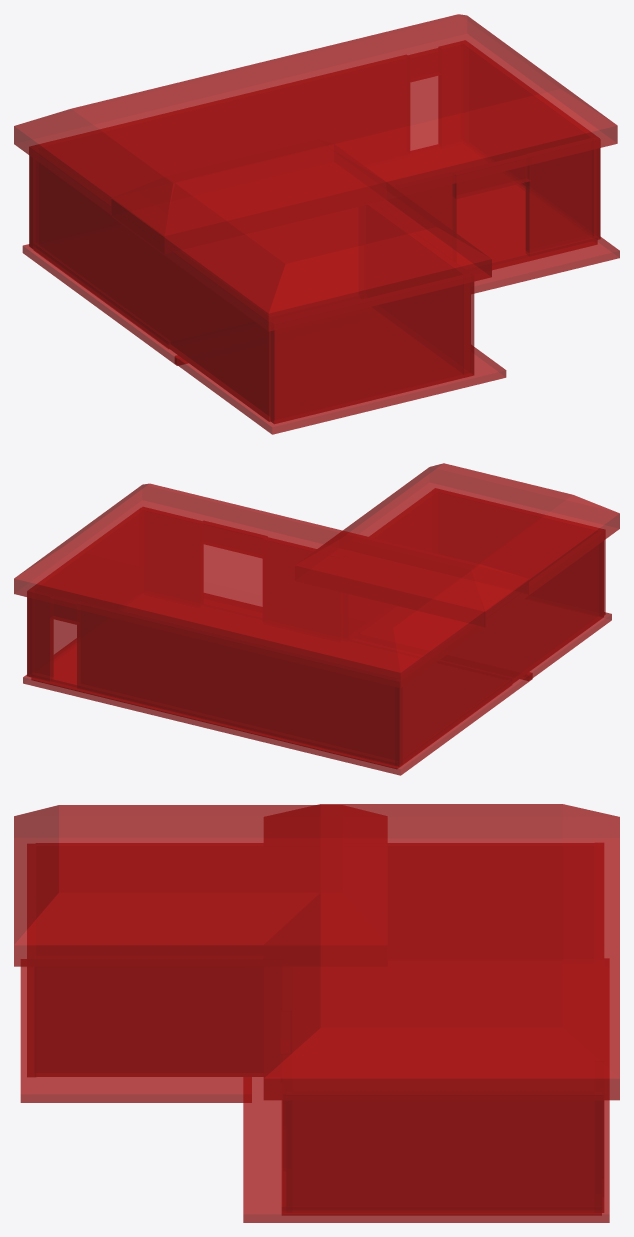
The model's file is SM_Bld_Shop_03_COLLISION.fbx.
3 views of the same model, one above another, from view 1: azimuth 30°, elevation 25°; view 2: azimuth 150°, elevation 25°; view 3: azimuth 270°, elevation 25° (orthographic). The views are drawn at different scales.
Visible parts, largest first — view 1: SM_Bld_Shop_03_COLLISION; view 2: SM_Bld_Shop_03_COLLISION; view 3: SM_Bld_Shop_03_COLLISION.
Part boxes in pixels (x1,y1,x2,y2): SM_Bld_Shop_03_COLLISION: [14, 14, 619, 434]; SM_Bld_Shop_03_COLLISION: [14, 463, 619, 775]; SM_Bld_Shop_03_COLLISION: [14, 804, 619, 1222].
Size of the model in its own units: 1460 by 466 by 1424.
